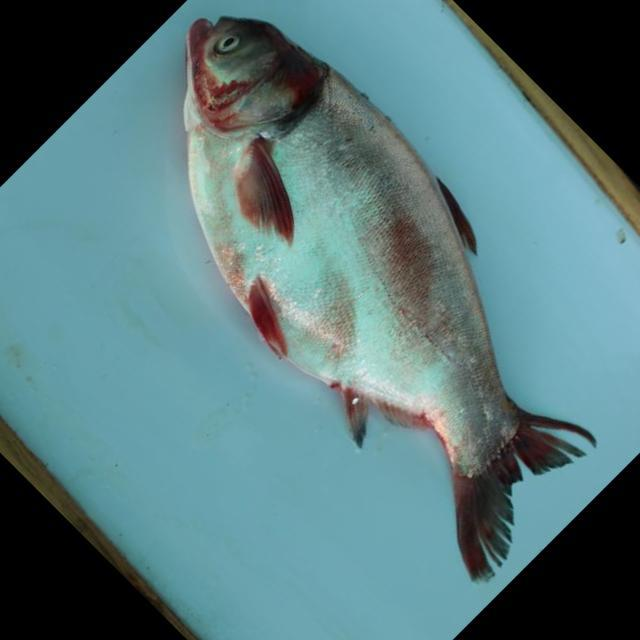SilverCarp: (166, 18, 596, 566)
